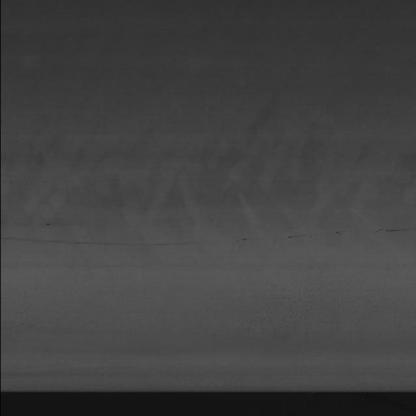inclusion: (17, 223, 407, 249)
